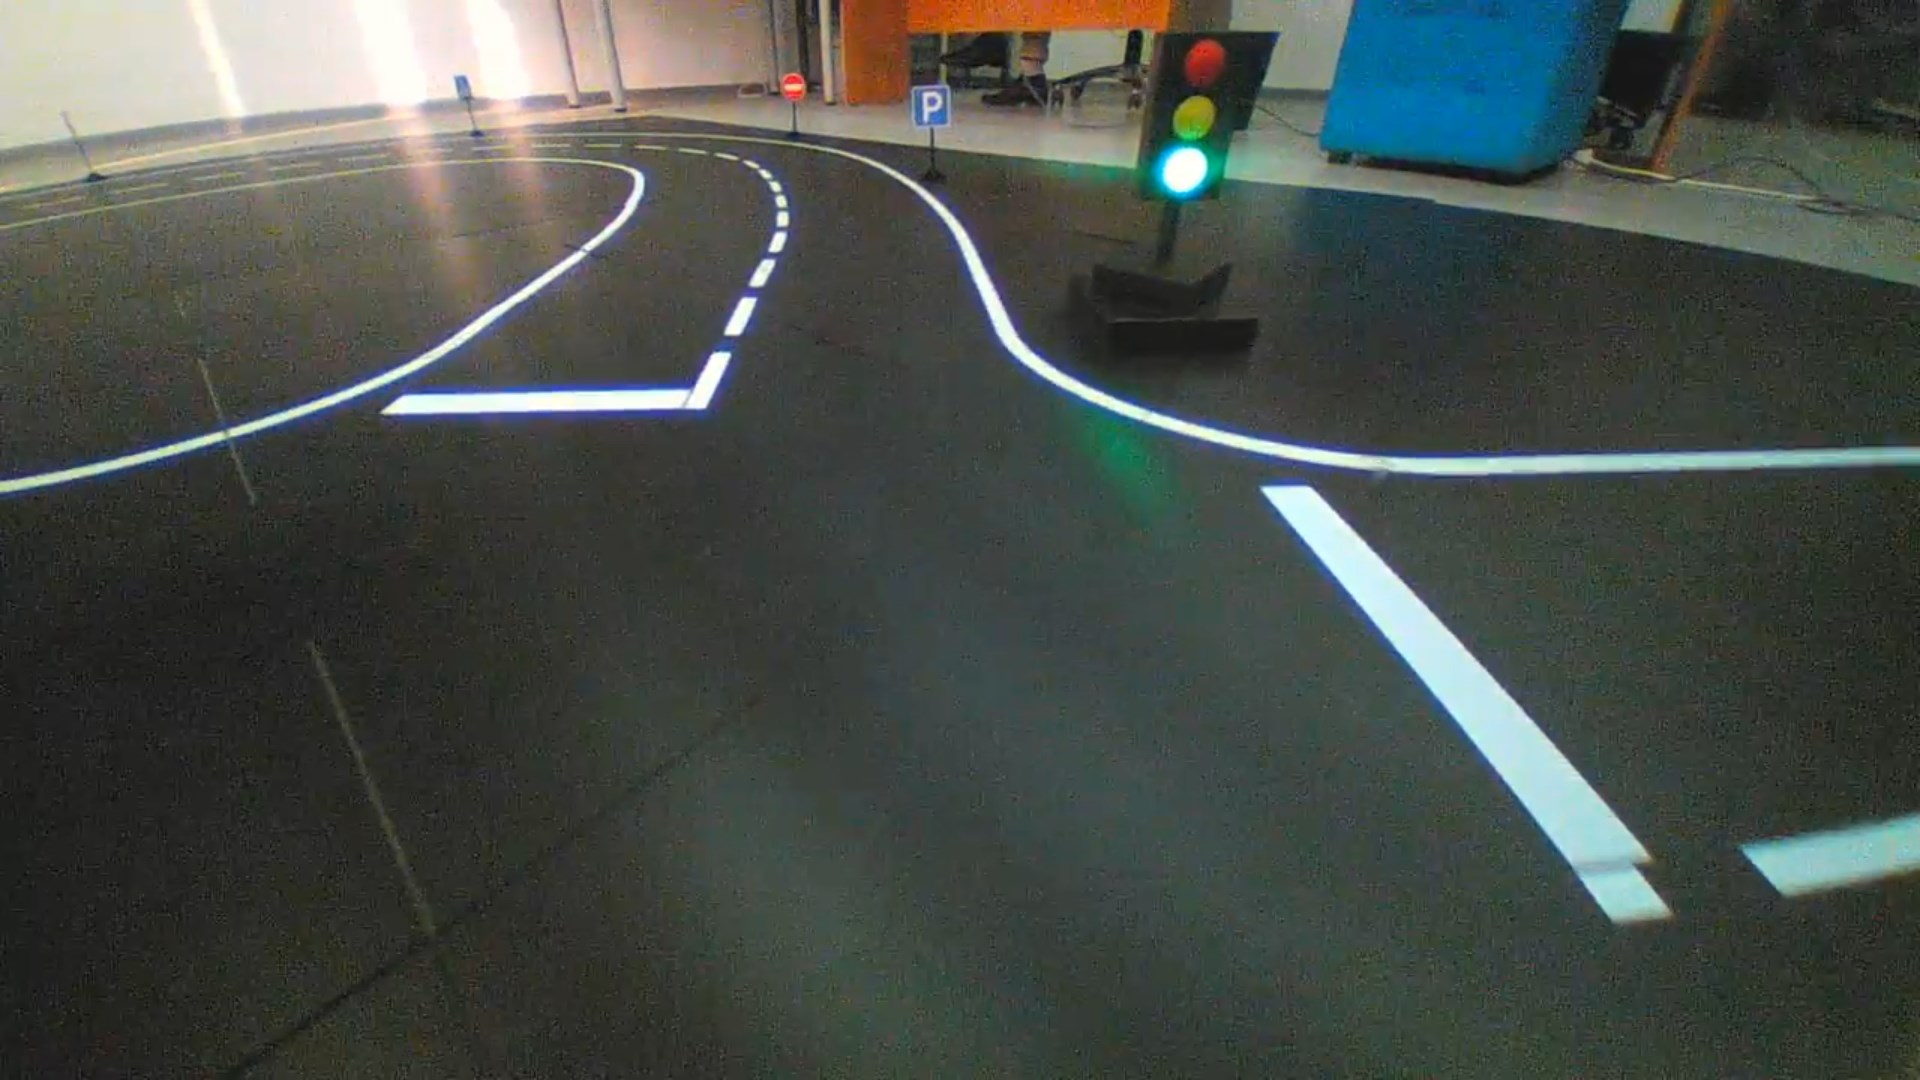trafficlight: (1129, 29, 1261, 200)
